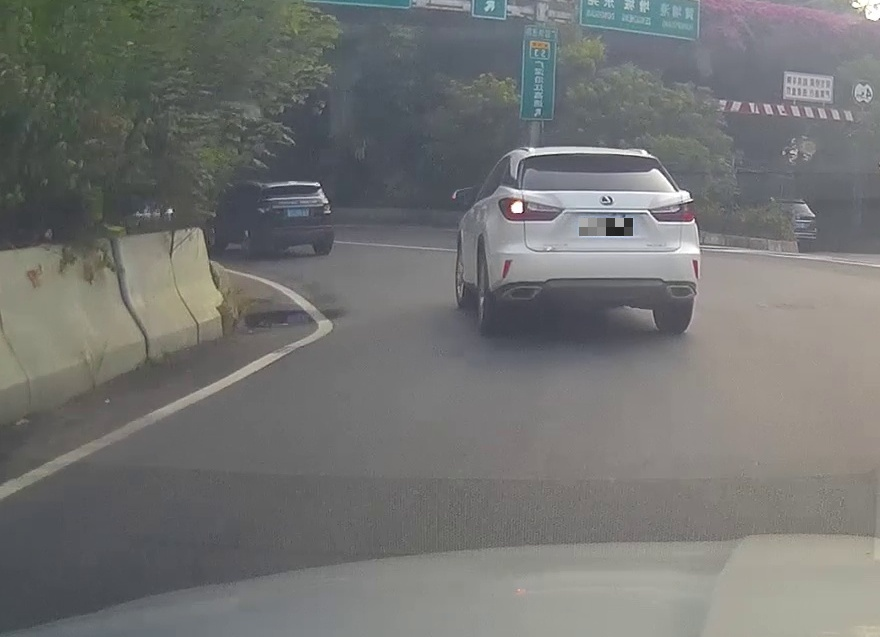L_light: (498, 197, 567, 222)
R_light: (646, 198, 696, 222)
T_light: (578, 152, 610, 158)
day-left: (493, 146, 701, 337)
plate_1: (579, 218, 633, 236)
